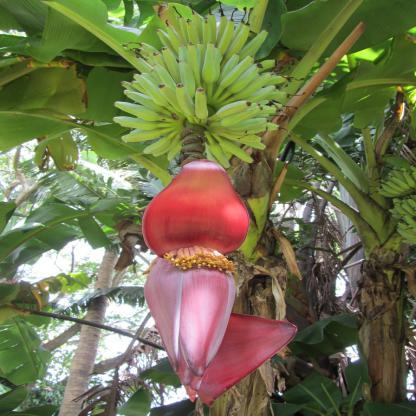Banana: (111, 0, 307, 169), (365, 166, 416, 252)
